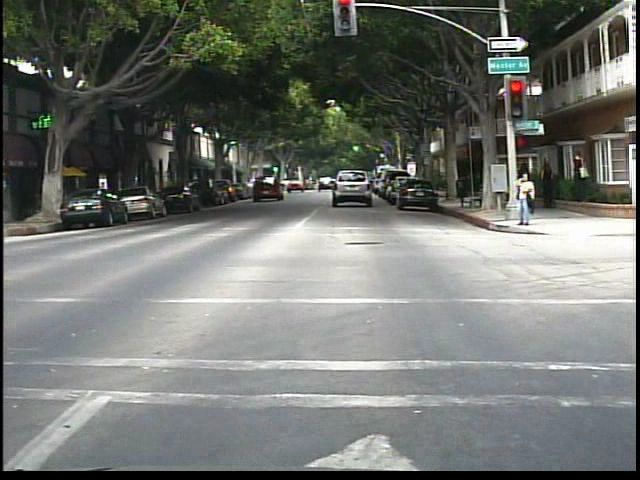person: (512, 169, 538, 229), (568, 148, 593, 204), (539, 159, 561, 216), (516, 159, 536, 214)
